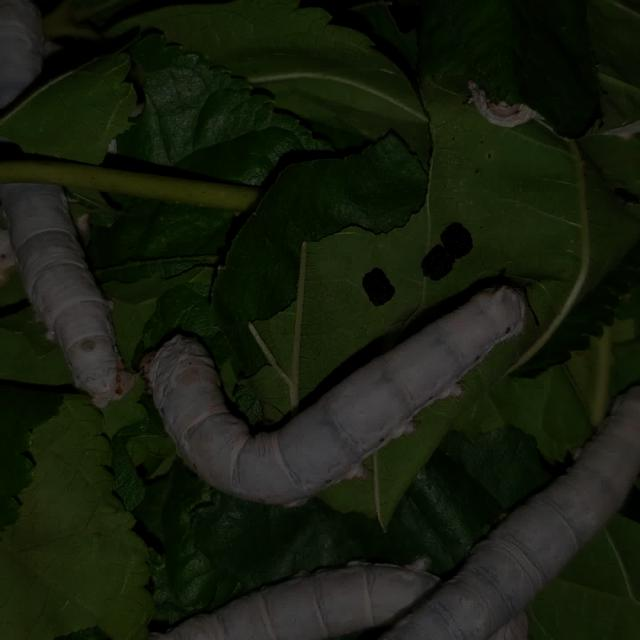Healthy: (129, 271, 530, 520)
